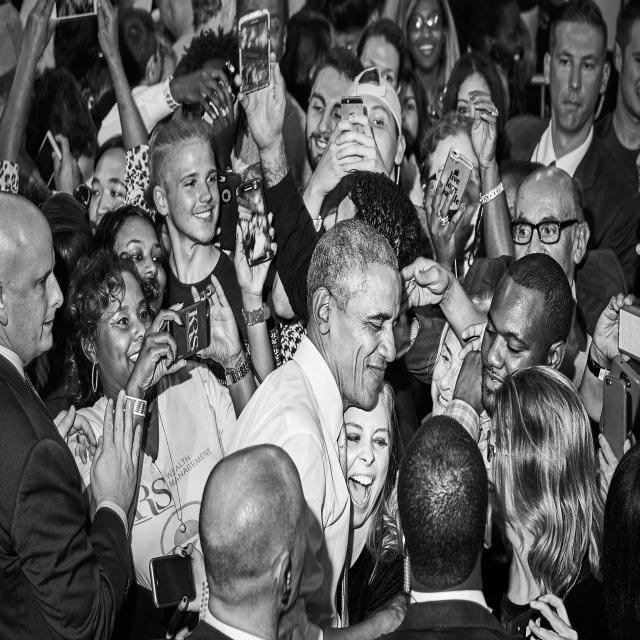body: (0, 0, 640, 422), (60, 245, 276, 615), (222, 213, 404, 639), (234, 47, 426, 335), (386, 252, 574, 520), (498, 0, 640, 298), (268, 63, 409, 324), (142, 115, 270, 388), (480, 363, 604, 640), (369, 413, 520, 639), (309, 373, 411, 639), (175, 442, 310, 640), (597, 440, 640, 640), (37, 190, 94, 299)
